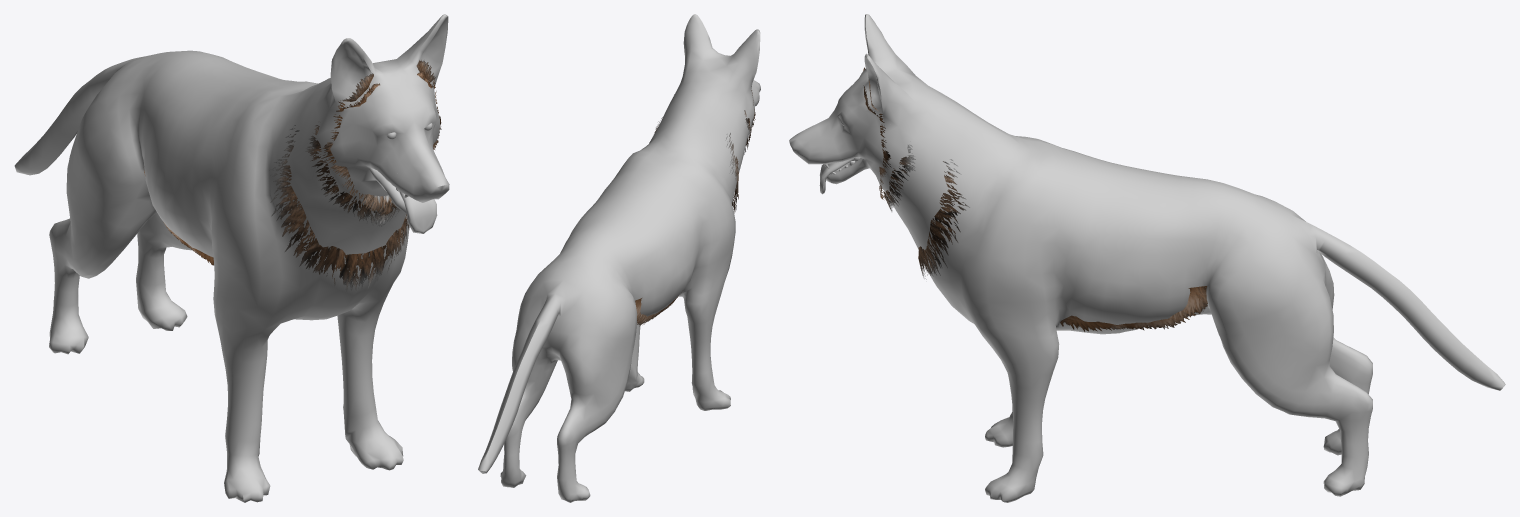
The model's file is dog.fbx.
The picture shows the model from 3 angles, left to right: view 1: azimuth 30°, elevation 25°; view 2: azimuth 150°, elevation 25°; view 3: azimuth 270°, elevation 25°; orthographic projection. The views are drawn at different scales.
Parts seen in each view (by area): view 1: 51, 38, 14, 71, 27; view 2: 51, 38, 14; view 3: 51, 38, 14, 3.
Part boxes in pixels (x1=…): 51: x1=32, y1=18, x2=447, y2=480; 38: x1=14, y1=14, x2=449, y2=502; 14: x1=269, y1=125, x2=409, y2=291; 71: x1=321, y1=79, x2=441, y2=215; 27: x1=342, y1=60, x2=435, y2=109; 51: x1=485, y1=18, x2=760, y2=502; 38: x1=478, y1=14, x2=760, y2=502; 14: x1=654, y1=94, x2=751, y2=212; 51: x1=789, y1=19, x2=1485, y2=495; 38: x1=789, y1=14, x2=1505, y2=502; 14: x1=883, y1=144, x2=969, y2=279; 3: x1=1060, y1=286, x2=1207, y2=331.
Bounding box in the file's own units: 29.83 × 83.57 × 124.
